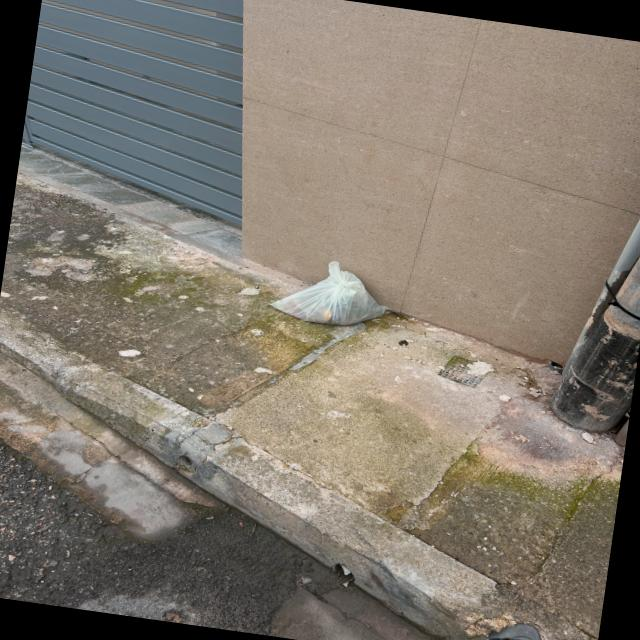white_bag: (264, 250, 396, 336)
